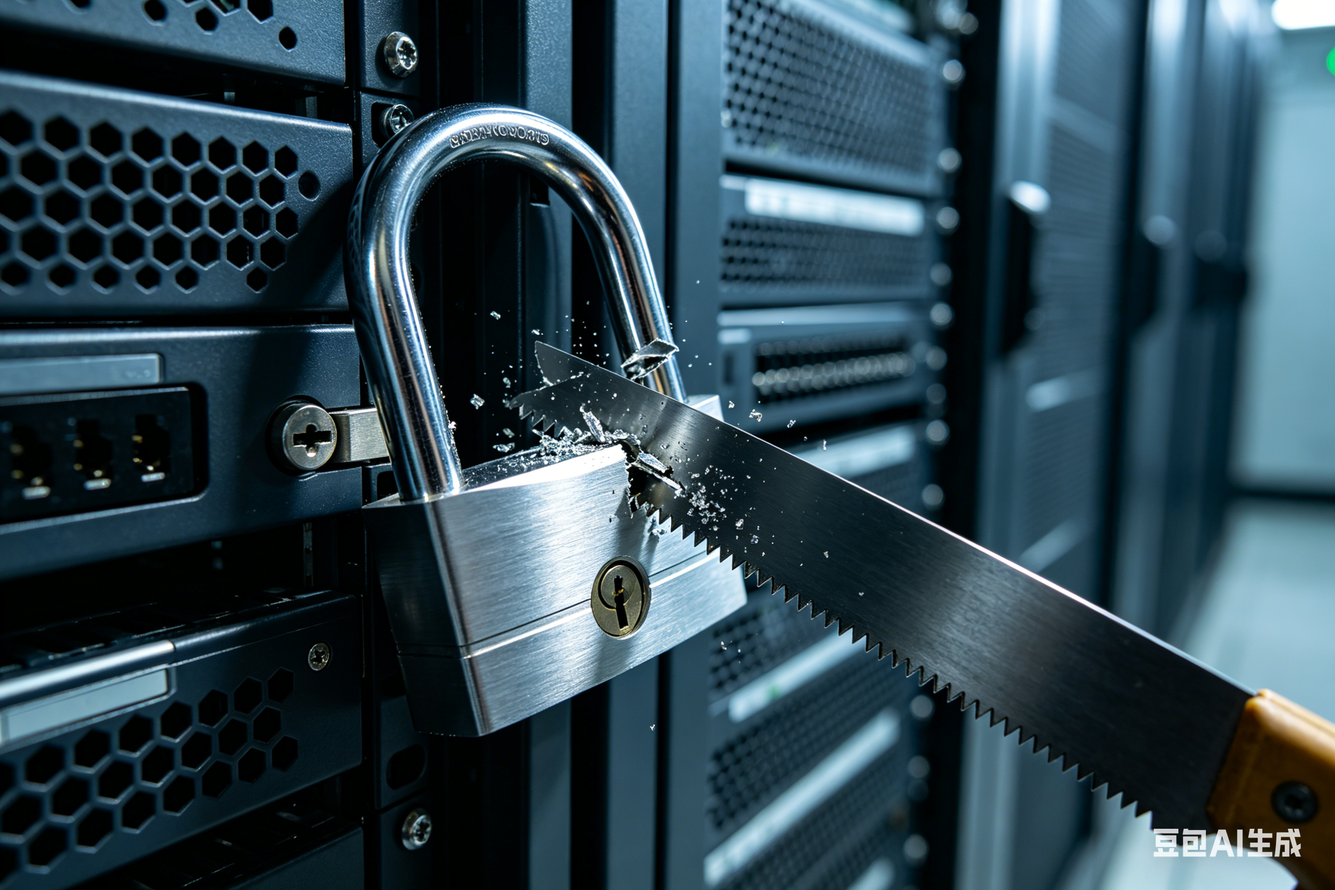BadLock: (430, 384, 735, 539)
